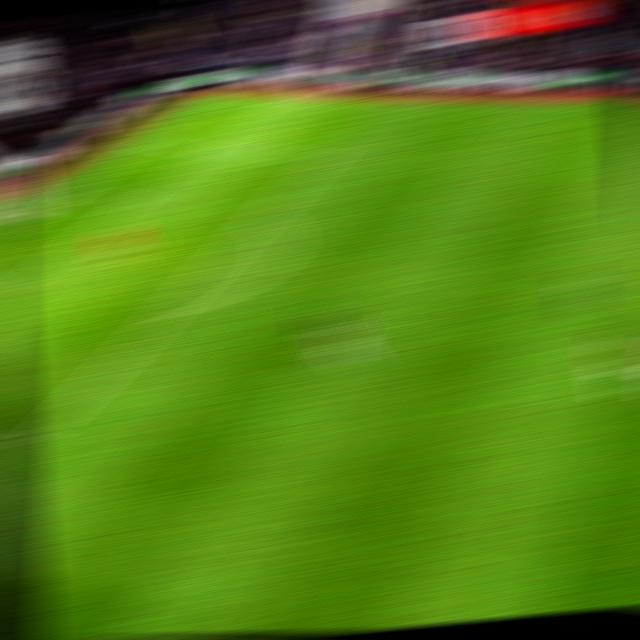bigarea_bottom_inner: (13, 429, 55, 451)
bigarea_top_inner: (308, 145, 345, 162)
bigarea_top_outter: (129, 136, 165, 150)
bottom_arc_area_intersection: (143, 307, 179, 324)
corner: (199, 89, 239, 99)
smallarea_top_inner: (118, 190, 155, 204)
smallarea_top_outter: (56, 184, 92, 199)
top_arc_area_intersection: (243, 208, 281, 223)
